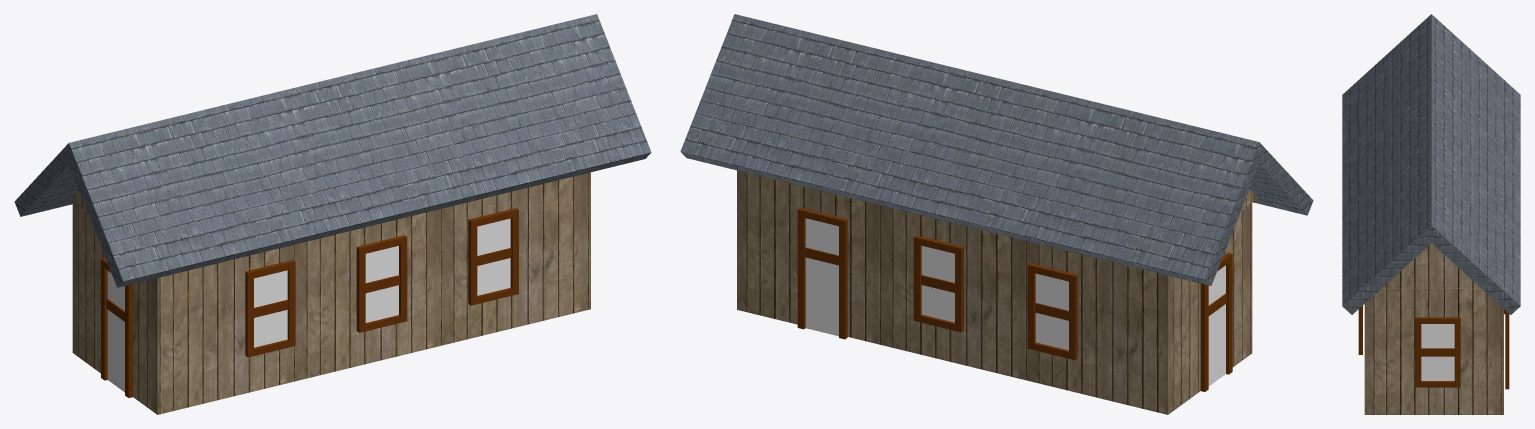
Rendered from Medium_Building.glb.
3 views of the same model, side by side, from view 1: azimuth 30°, elevation 25°; view 2: azimuth 150°, elevation 25°; view 3: azimuth 270°, elevation 25° (orthographic). The views are drawn at different scales.
Visible parts, largest first — view 1: mergedBlocks(Clone); view 2: mergedBlocks(Clone); view 3: mergedBlocks(Clone).
Part boxes in pixels (x1=…): mergedBlocks(Clone): x1=14, y1=14, x2=651, y2=414; mergedBlocks(Clone): x1=680, y1=14, x2=1313, y2=414; mergedBlocks(Clone): x1=1342, y1=14, x2=1520, y2=414.
Bounding box in the file's own units: 3.59 × 1.65 × 1.28.
4 materials, 2 textured.
